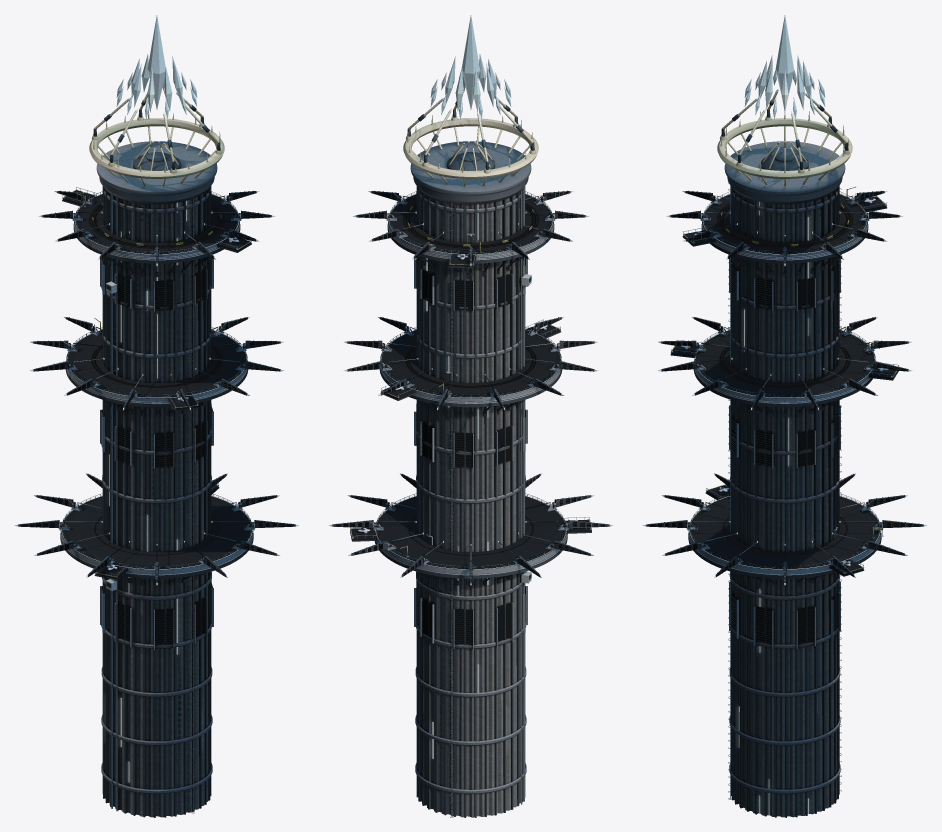
File: climate_tower.glb
3 renders of one model, left to right at view 1: azimuth 30°, elevation 25°; view 2: azimuth 150°, elevation 25°; view 3: azimuth 270°, elevation 25°, orthographic.
Visible parts, largest first — view 1: walls_ext, props_rings, props_services, props_vanes, props_crown, props_crystals, props_docks, props_lights; view 2: walls_ext, props_rings, props_vanes, props_services, props_crown, props_crystals, props_docks, props_lights; view 3: walls_ext, props_rings, props_vanes, props_services, props_crown, props_crystals, props_docks, props_lights.
Part boxes in pixels (x1,y1,x2,y2): walls_ext: (96,141,217,817); props_rings: (60,191,253,586); props_services: (76,193,221,813); props_vanes: (14,190,299,585); props_crown: (89,92,224,186); props_crystals: (116,15,197,119); props_docks: (62,187,251,580); props_lights: (61,189,252,782); walls_ext: (410,141,531,817); props_rings: (374,191,567,586); props_vanes: (328,190,613,585); props_services: (399,186,534,817); props_crown: (403,91,538,186); props_crystals: (430,15,511,119); props_docks: (350,250,591,541); props_lights: (351,193,590,758); walls_ext: (724,141,845,817); props_rings: (688,191,881,586); props_vanes: (642,190,927,585); props_services: (720,183,883,799); props_crown: (717,89,852,186); props_crystals: (744,15,825,119); props_docks: (670,195,898,576); props_lights: (672,194,897,815).
Bounding box in the file's own units: 107 × 323 × 107.
Materials: 8 (8 with a texture image).
